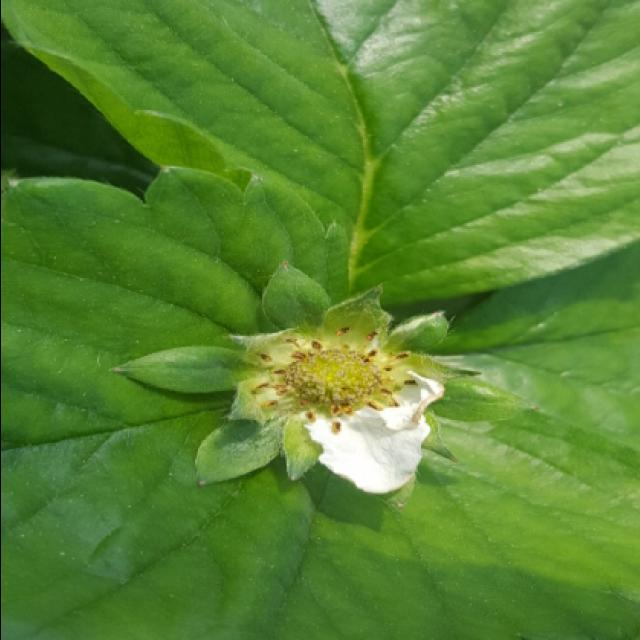Blossom Blight: (248, 321, 424, 439)
